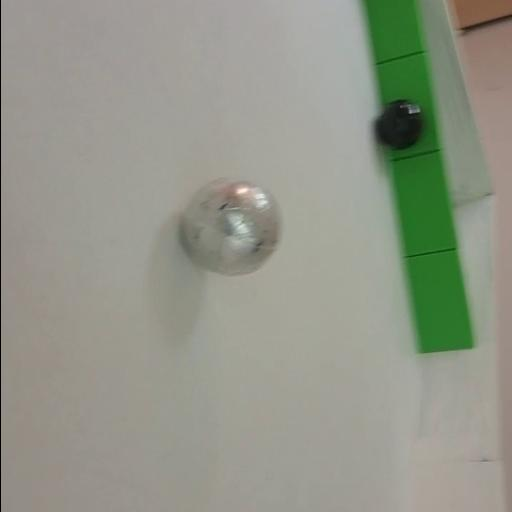alive: (180, 178, 282, 276)
dead: (374, 100, 422, 150)
